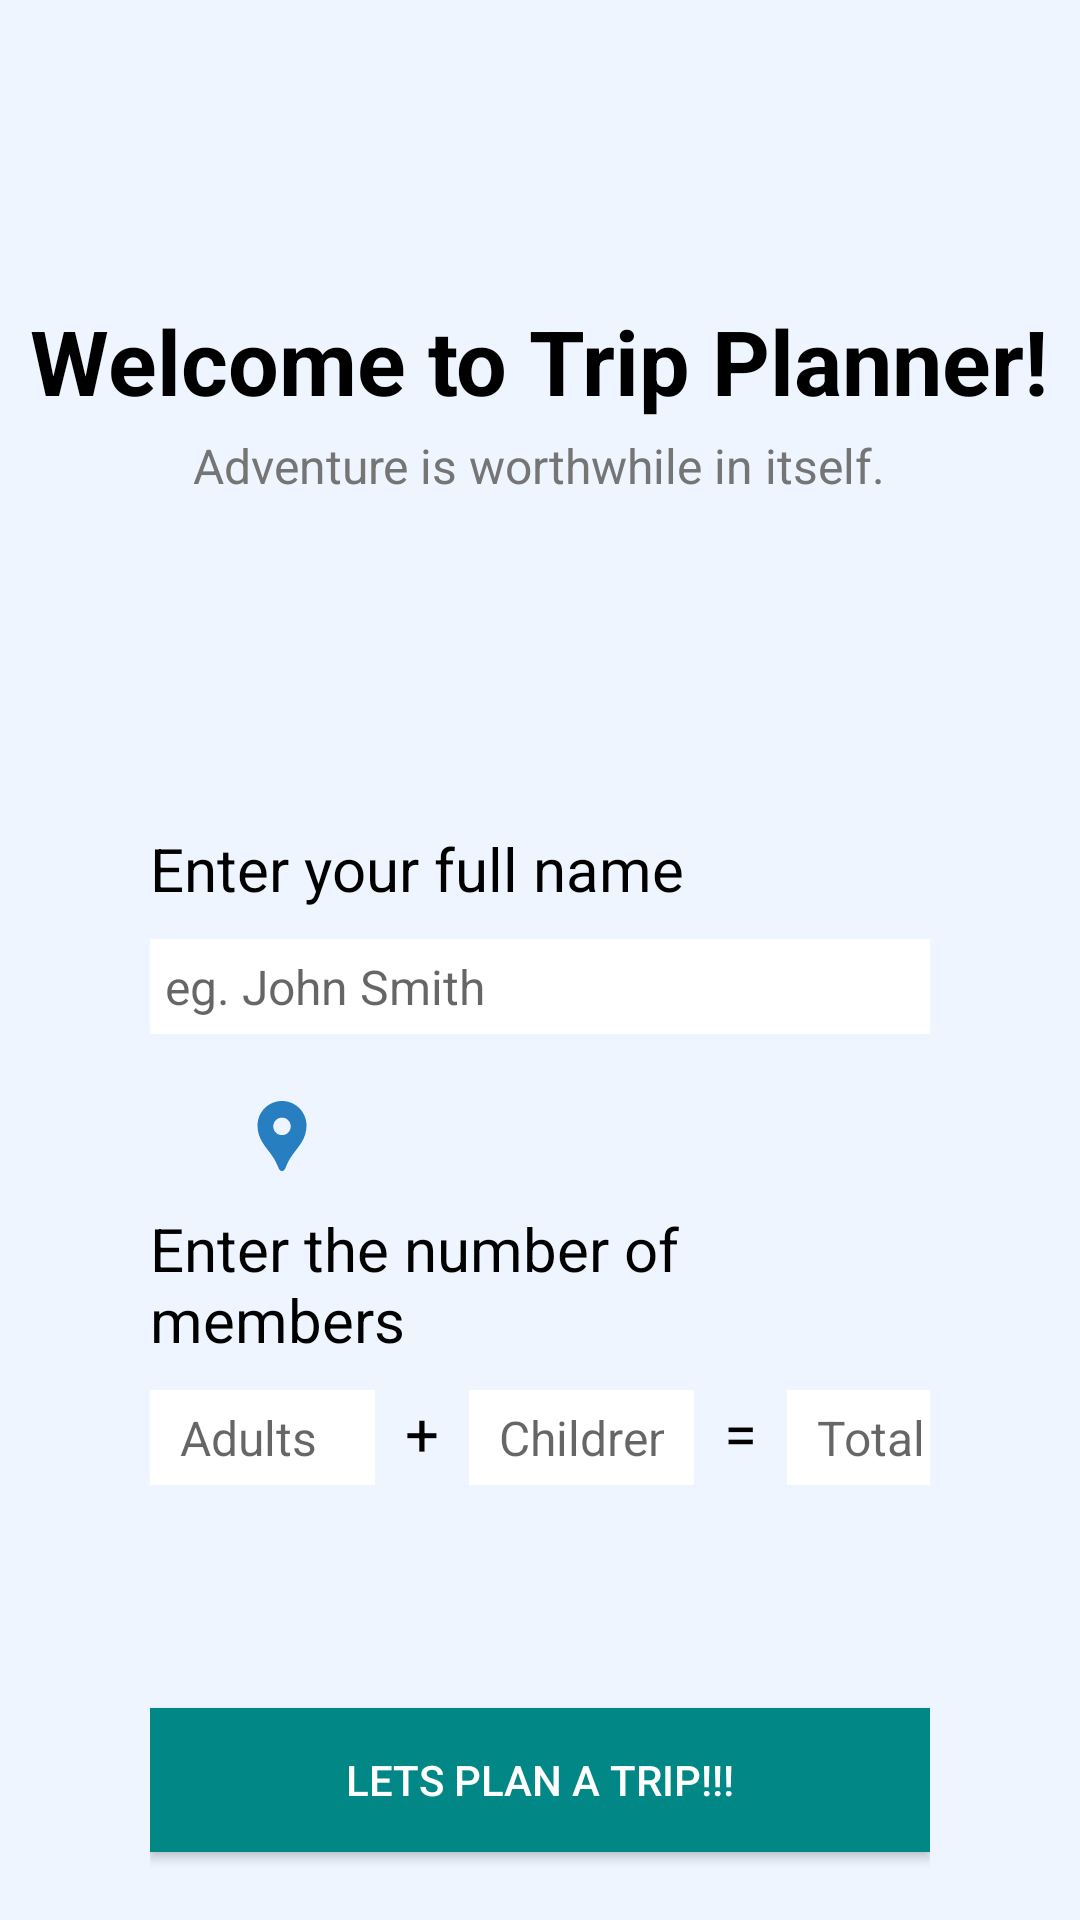

Where to tap for icons on this 1080px×1920px app screen, as (x=x, y=y):
location: (x=282, y=1136)
